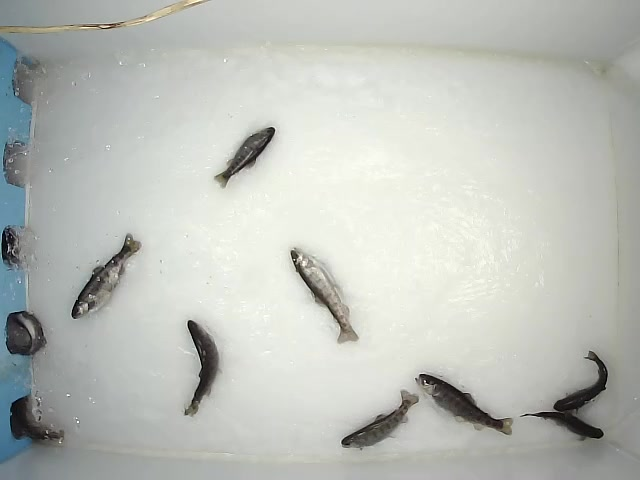fish: (290, 246, 360, 345), (70, 231, 143, 321), (414, 373, 515, 438), (340, 388, 421, 452), (212, 125, 276, 190), (183, 319, 225, 418), (553, 348, 610, 414), (518, 411, 605, 442)
